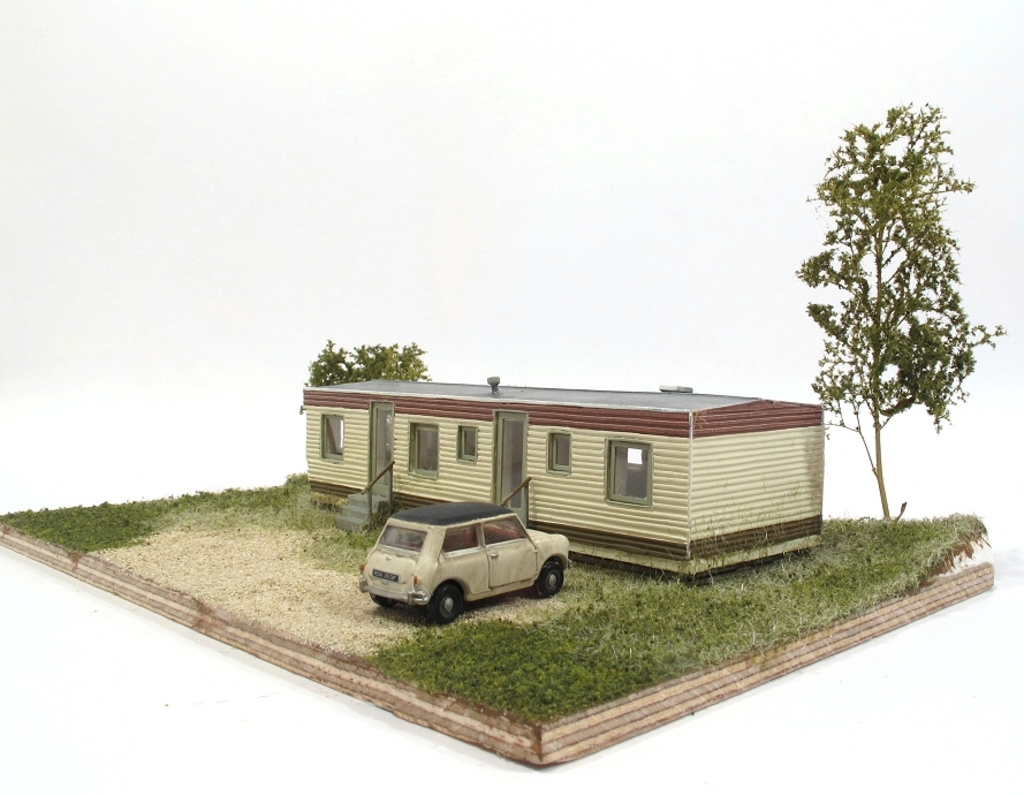Car: (360, 504, 583, 628)
